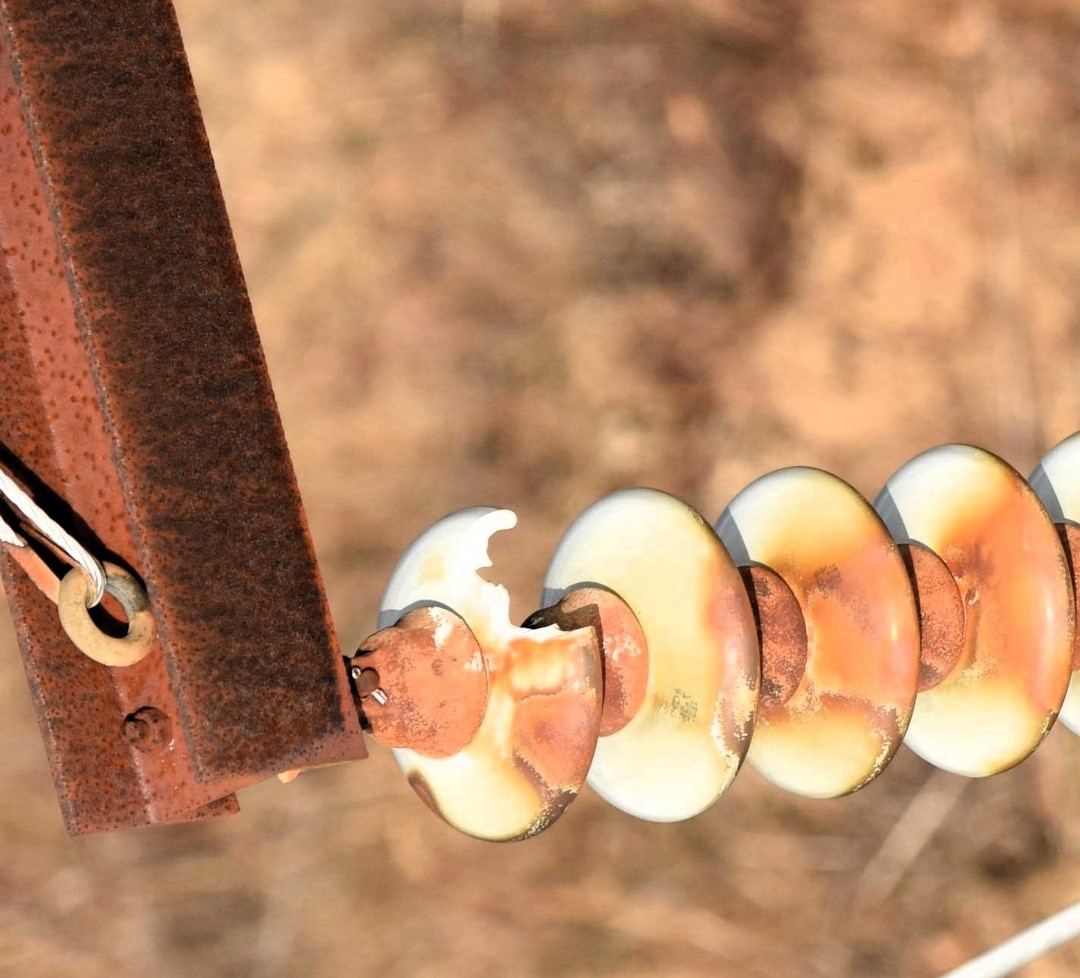insulator breakage: (365, 493, 610, 851)
